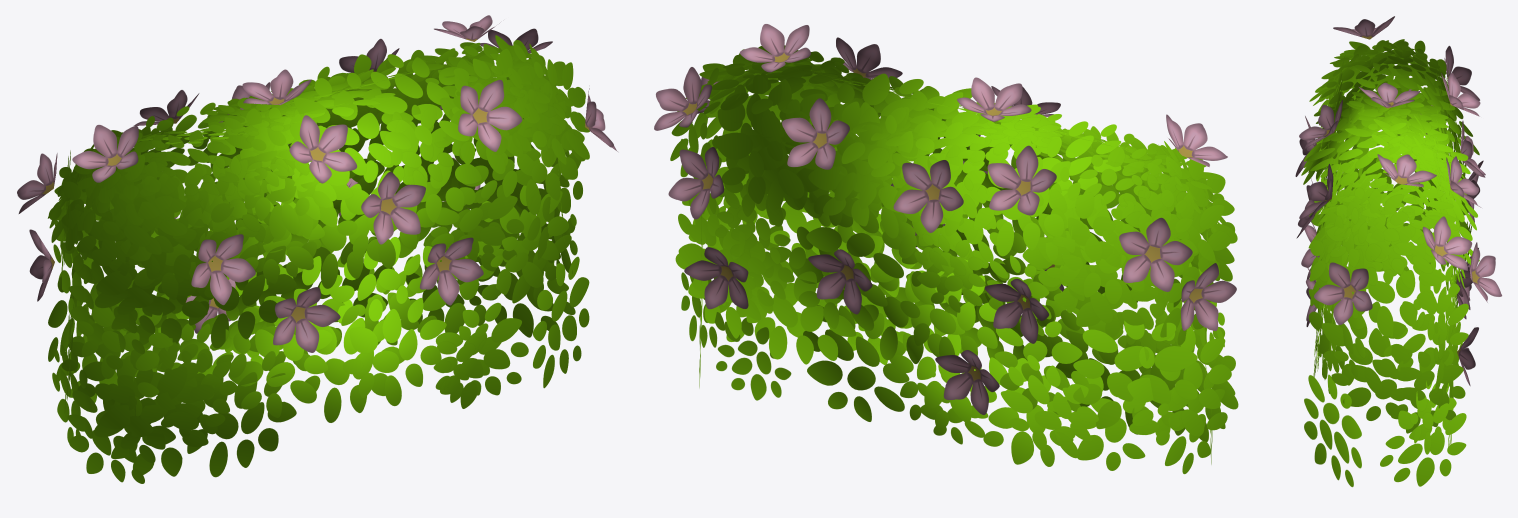
Rendered from Bush_Large_Flowers.gltf.
3 renders of one model, left to right at view 1: azimuth 30°, elevation 25°; view 2: azimuth 150°, elevation 25°; view 3: azimuth 270°, elevation 25°, orthographic. The views are drawn at different scales.
Parts seen in each view (by area): view 1: Bush_Large_Flowers; view 2: Bush_Large_Flowers; view 3: Bush_Large_Flowers.
Boxes of the visible parts, x1,y1,x2,y2 form: Bush_Large_Flowers: [17, 15, 617, 483]; Bush_Large_Flowers: [654, 24, 1238, 474]; Bush_Large_Flowers: [1295, 16, 1501, 487].
Bounding box in the file's own units: 1.93 × 1.26 × 0.7617.
Materials: 2 (2 with a texture image).
